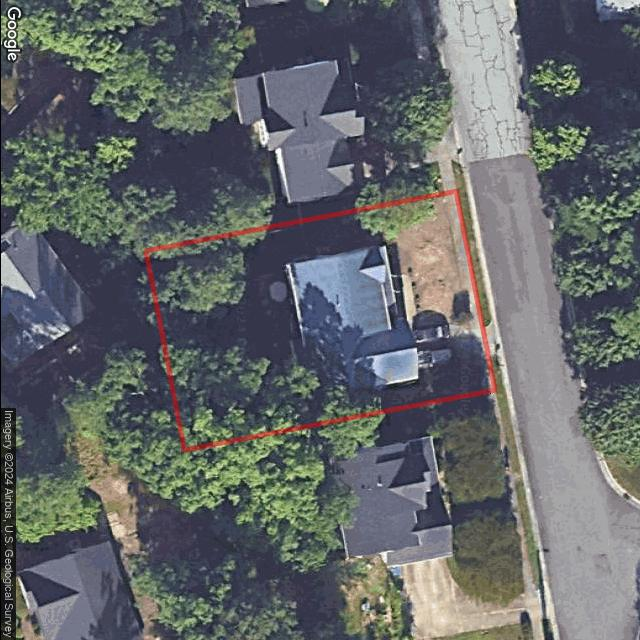Driveway: (412, 317, 488, 370)
Extra-Driveway: (482, 319, 497, 358)
Extra-Lawn: (456, 187, 489, 328), (488, 356, 505, 393)
House: (281, 245, 418, 400)
Lawn: (143, 192, 493, 450)
Other: (253, 276, 292, 325)
Sidewalk: (445, 191, 481, 326), (390, 274, 420, 332), (478, 357, 494, 393)
